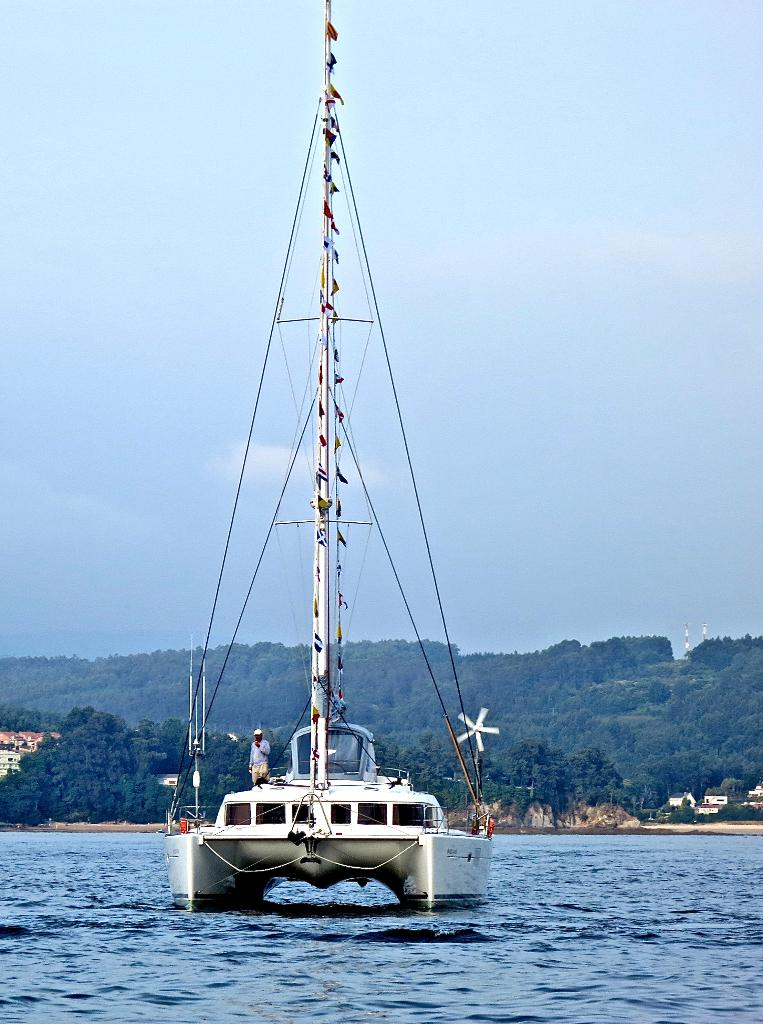boat: (123, 1, 536, 957)
